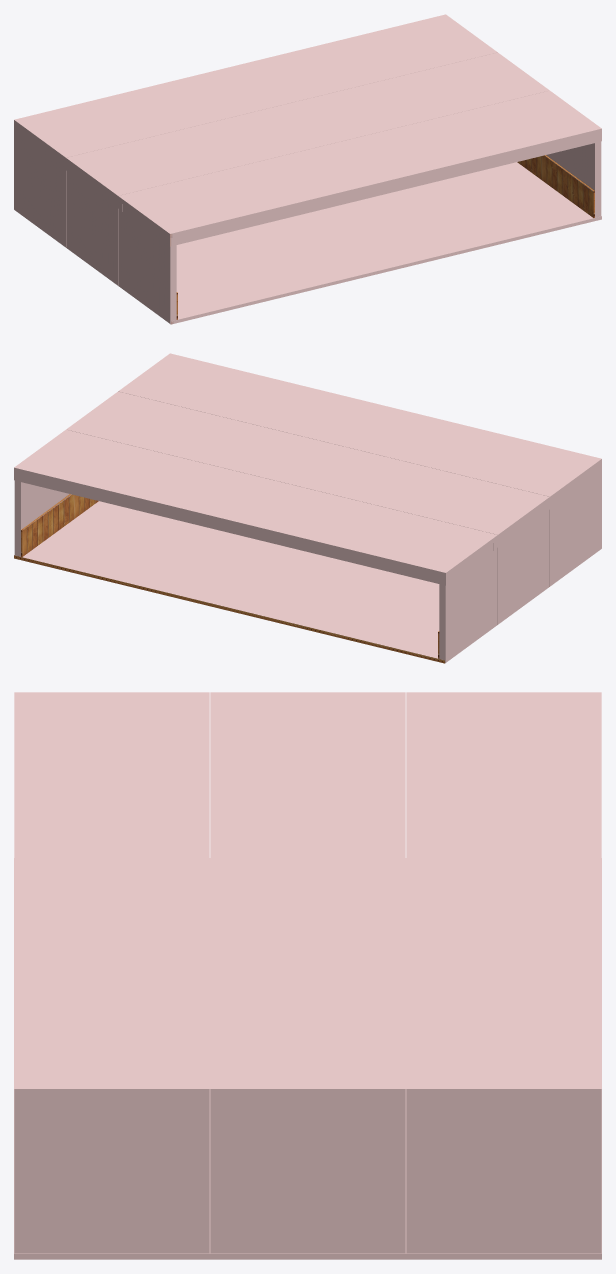
Rendered from MainHall.fbx.
3 views of the same model, one above another, from view 1: azimuth 30°, elevation 25°; view 2: azimuth 150°, elevation 25°; view 3: azimuth 270°, elevation 25° (orthographic). The views are drawn at different scales.
Visible parts, largest first — view 1: LAB; view 2: LAB; view 3: LAB.
Part boxes in pixels (bbox=[...]): LAB: bbox=[14, 14, 601, 324]; LAB: bbox=[14, 353, 601, 663]; LAB: bbox=[14, 692, 601, 1259].
Bounding box in the file's own units: 11787 × 2367 × 7386.
Materials: 1 (1 with a texture image).
